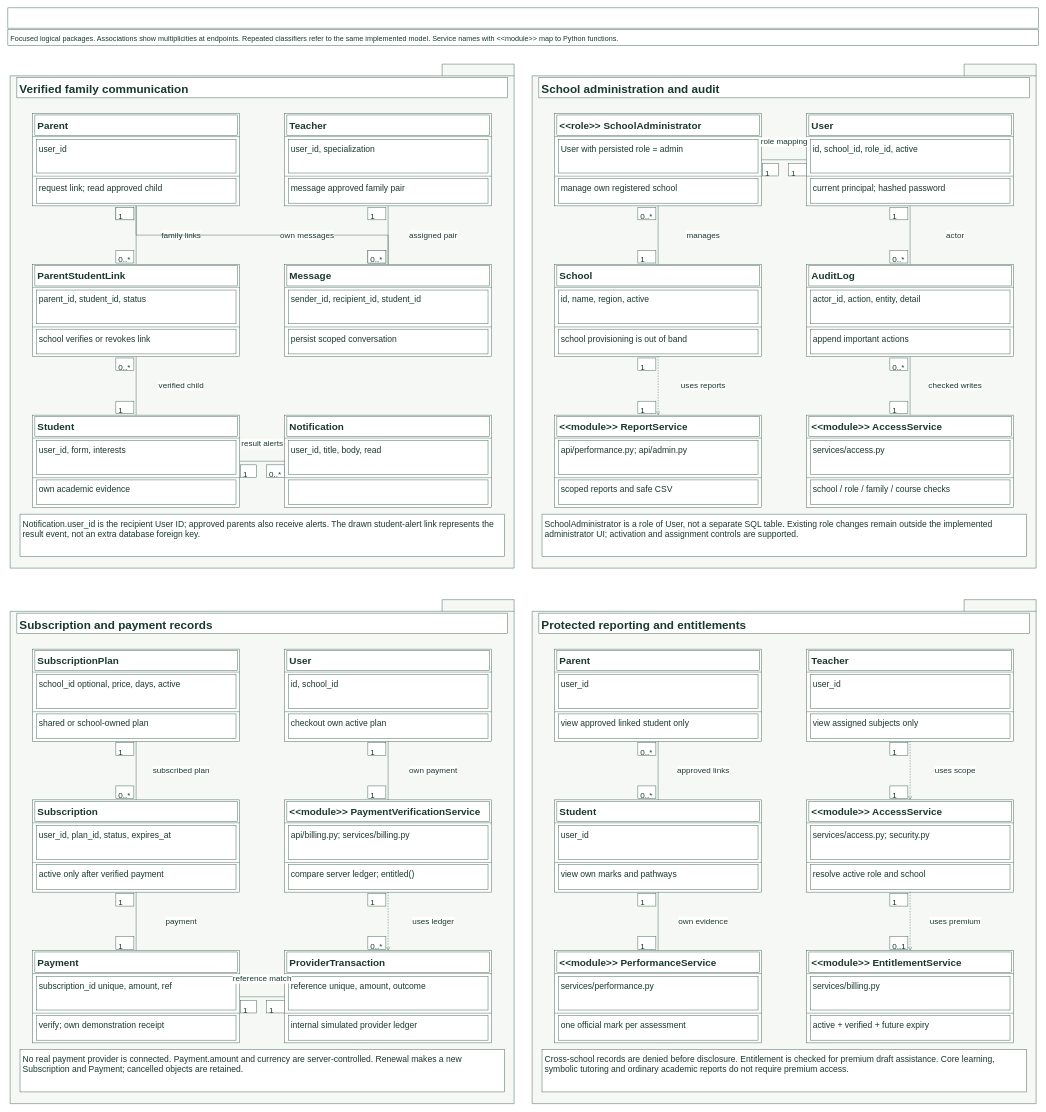
Some shapes in this 1046 by 1112 pixel diagram are drawn without their labels. The centre of each missing label's shape, as x and y in pixels:
"localized in-app alert" belongs at pixel 388 492.
"Parent Administrator and Subscription Detailed Package Diagram" belongs at pixel 522 17.
